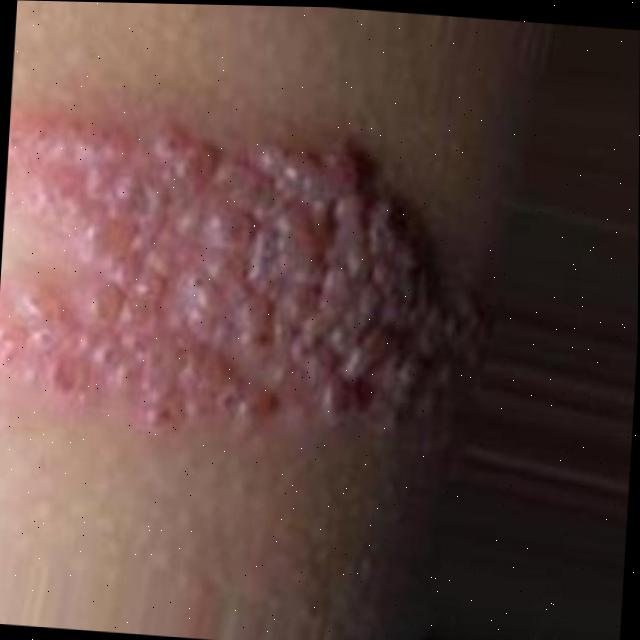Shingles: (0, 103, 497, 431)
